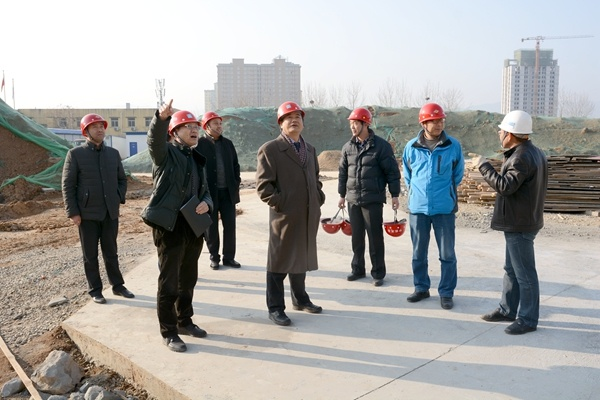red: (165, 111, 200, 146), (275, 100, 306, 137), (417, 102, 449, 137), (79, 111, 109, 142), (198, 107, 225, 137), (346, 106, 372, 137)
white: (498, 109, 532, 147)
